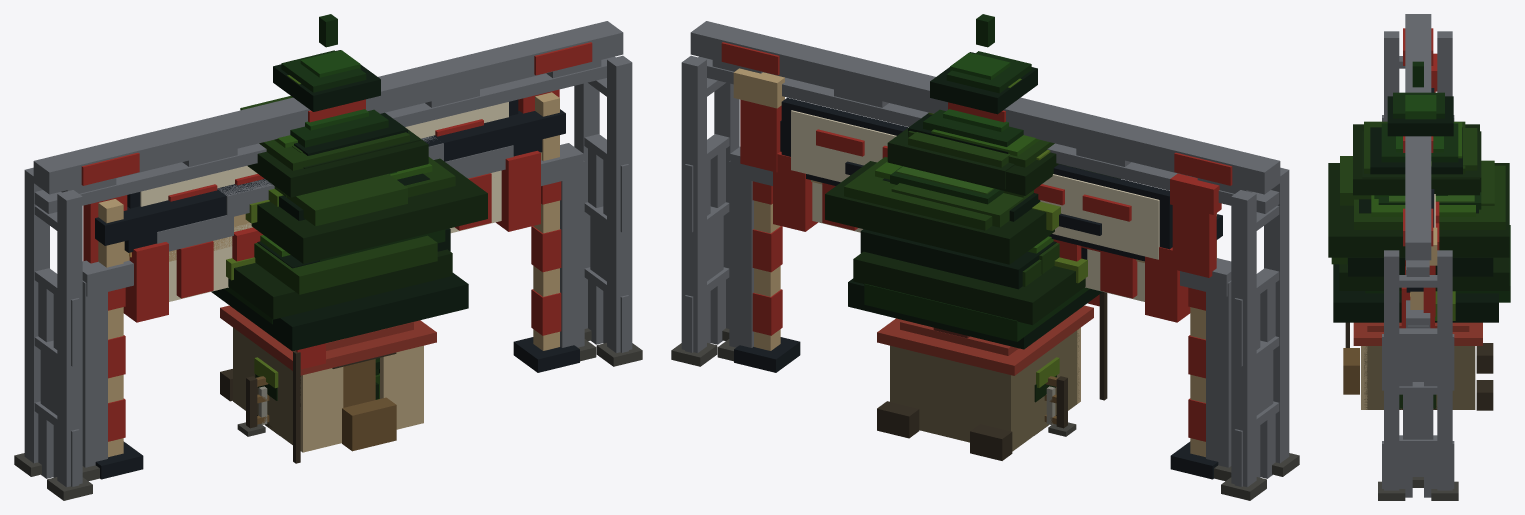
Rendered from props.glb.
The picture shows the model from 3 angles, left to right: view 1: azimuth 30°, elevation 25°; view 2: azimuth 150°, elevation 25°; view 3: azimuth 270°, elevation 25°; orthographic projection. The views are drawn at different scales.
Visible parts, largest first — view 1: prop_start_gantry, prop_tree_deciduous, prop_banner_arch, prop_gate_checkpoint, prop_marshal_tent, prop_tree_pine, prop_tree_birch, prop_spectator_fence, prop_hedgerow; view 2: prop_start_gantry, prop_tree_deciduous, prop_marshal_tent, prop_tree_pine, prop_banner_arch, prop_gate_checkpoint, prop_tree_birch, prop_spectator_fence; view 3: prop_start_gantry, prop_tree_deciduous, prop_tree_pine, prop_marshal_tent, prop_tree_birch, prop_banner_arch, prop_gate_checkpoint.
Part boxes in pixels (bbox=[...]): prop_start_gantry: bbox=[14, 21, 642, 500]; prop_tree_deciduous: bbox=[226, 121, 487, 319]; prop_banner_arch: bbox=[82, 136, 596, 481]; prop_gate_checkpoint: bbox=[95, 92, 579, 479]; prop_marshal_tent: bbox=[220, 305, 436, 463]; prop_tree_pine: bbox=[211, 14, 468, 351]; prop_tree_birch: bbox=[240, 96, 420, 226]; prop_spectator_fence: bbox=[237, 376, 269, 436]; prop_hedgerow: bbox=[254, 357, 379, 435]; prop_start_gantry: bbox=[671, 21, 1299, 500]; prop_tree_deciduous: bbox=[825, 121, 1120, 325]; prop_marshal_tent: bbox=[877, 292, 1107, 460]; prop_tree_pine: bbox=[848, 14, 1102, 349]; prop_banner_arch: bbox=[717, 147, 1231, 481]; prop_gate_checkpoint: bbox=[733, 68, 1222, 479]; prop_tree_birch: bbox=[888, 129, 1069, 227]; prop_spectator_fence: bbox=[1044, 376, 1076, 436]; prop_start_gantry: bbox=[1378, 14, 1458, 500]; prop_tree_deciduous: bbox=[1328, 121, 1509, 290]; prop_tree_pine: bbox=[1333, 61, 1510, 322]; prop_marshal_tent: bbox=[1343, 322, 1493, 410]; prop_tree_birch: bbox=[1340, 128, 1494, 205]; prop_banner_arch: bbox=[1401, 260, 1434, 487]; prop_gate_checkpoint: bbox=[1406, 53, 1437, 309].
Bounding box in the file's own units: 14.32 × 9.35 × 4.78.
